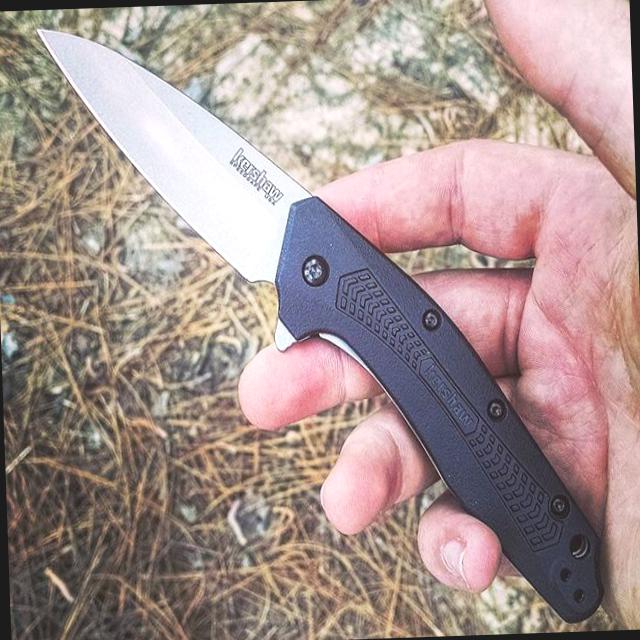knife: (25, 0, 610, 639)
